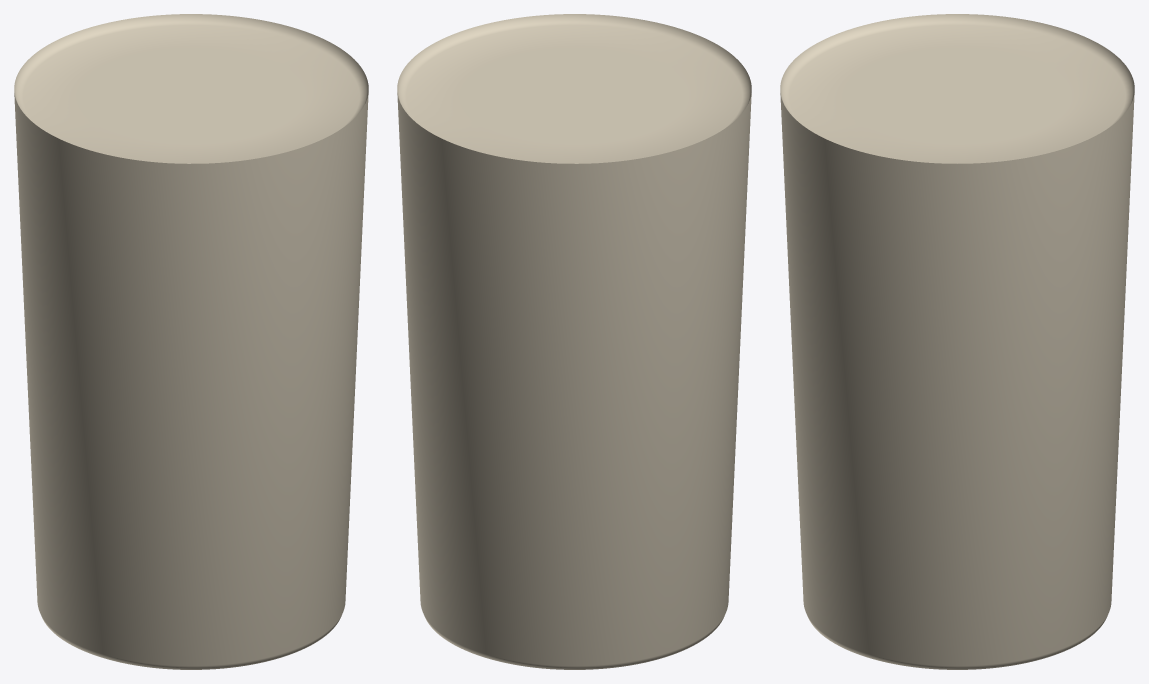
File: Glass_of_Milk_Milk_0.obj
3 renders of one model, left to right at view 1: azimuth 30°, elevation 25°; view 2: azimuth 150°, elevation 25°; view 3: azimuth 270°, elevation 25°, orthographic.
Visible parts, largest first — view 1: Glass_of_Milk_Milk_0; view 2: Glass_of_Milk_Milk_0; view 3: Glass_of_Milk_Milk_0.
Boxes of the visible parts, bbox=[...] form: Glass_of_Milk_Milk_0: bbox=[14, 14, 368, 669]; Glass_of_Milk_Milk_0: bbox=[397, 14, 751, 669]; Glass_of_Milk_Milk_0: bbox=[780, 14, 1134, 669].
Bounding box in the file's own units: 0.0747 × 0.1205 × 0.0747.
